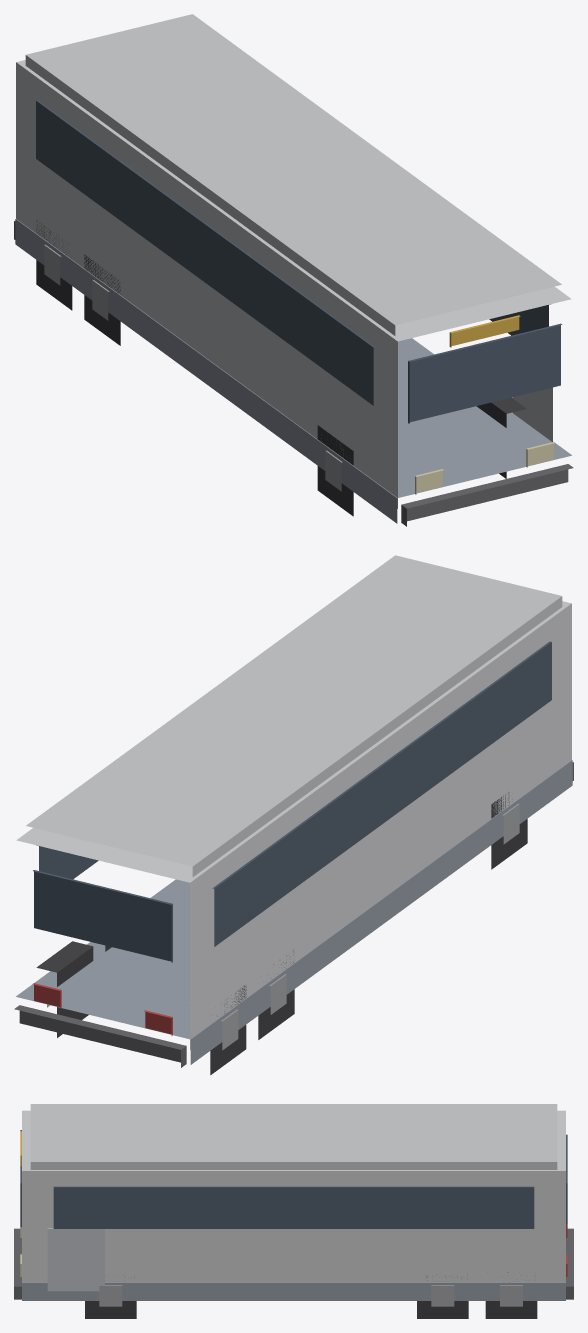
File: bus.glb
The picture shows the model from 3 angles, top to bottom: view 1: azimuth 30°, elevation 25°; view 2: azimuth 150°, elevation 25°; view 3: azimuth 270°, elevation 25°; orthographic projection. The views are drawn at different scales.
Visible parts, largest first — view 1: bus; view 2: bus; view 3: bus.
Part boxes in pixels (x1=…): bus: x1=14, y1=14, x2=573, y2=526; bus: x1=14, y1=555, x2=573, y2=1075; bus: x1=14, y1=1104, x2=573, y2=1318.
Bounding box in the file's own units: 2.56 × 3 × 9.78.
